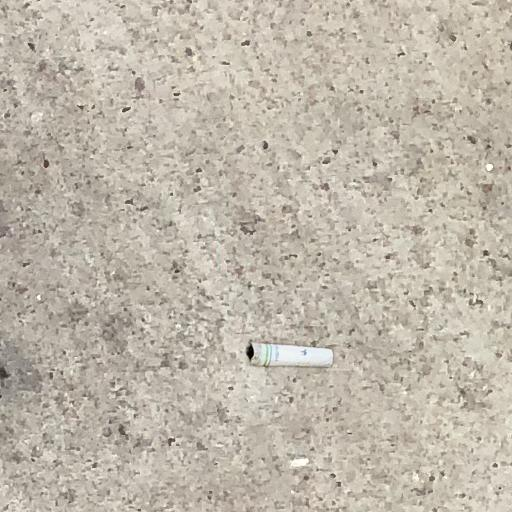smoke: (247, 343, 332, 366)
